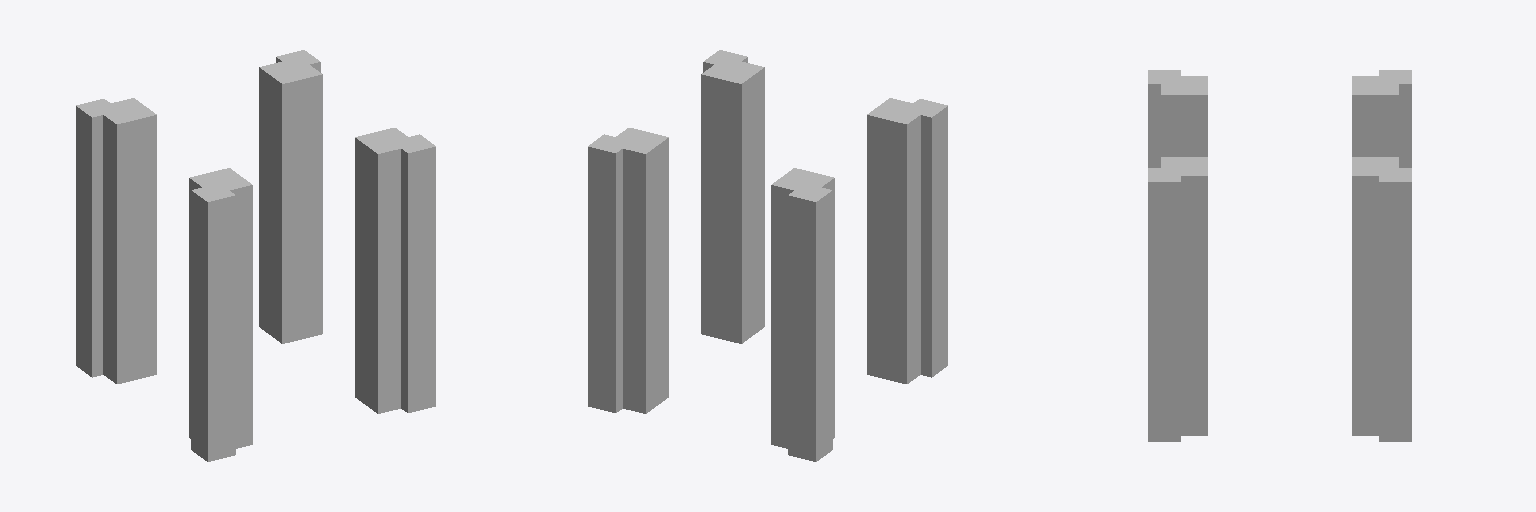
Rendered from towerSquarePoles.obj.
3 views of the same model, side by side, from view 1: azimuth 30°, elevation 25°; view 2: azimuth 150°, elevation 25°; view 3: azimuth 270°, elevation 25° (orthographic).
Parts seen in each view (by area): view 1: towerSquarePoles; view 2: towerSquarePoles; view 3: towerSquarePoles.
Part boxes in pixels (bbox=[...]): towerSquarePoles: bbox=[76, 50, 435, 461]; towerSquarePoles: bbox=[588, 50, 947, 461]; towerSquarePoles: bbox=[1148, 70, 1411, 441].
Bounding box in the file's own units: 9.3 × 10.1 × 9.3.